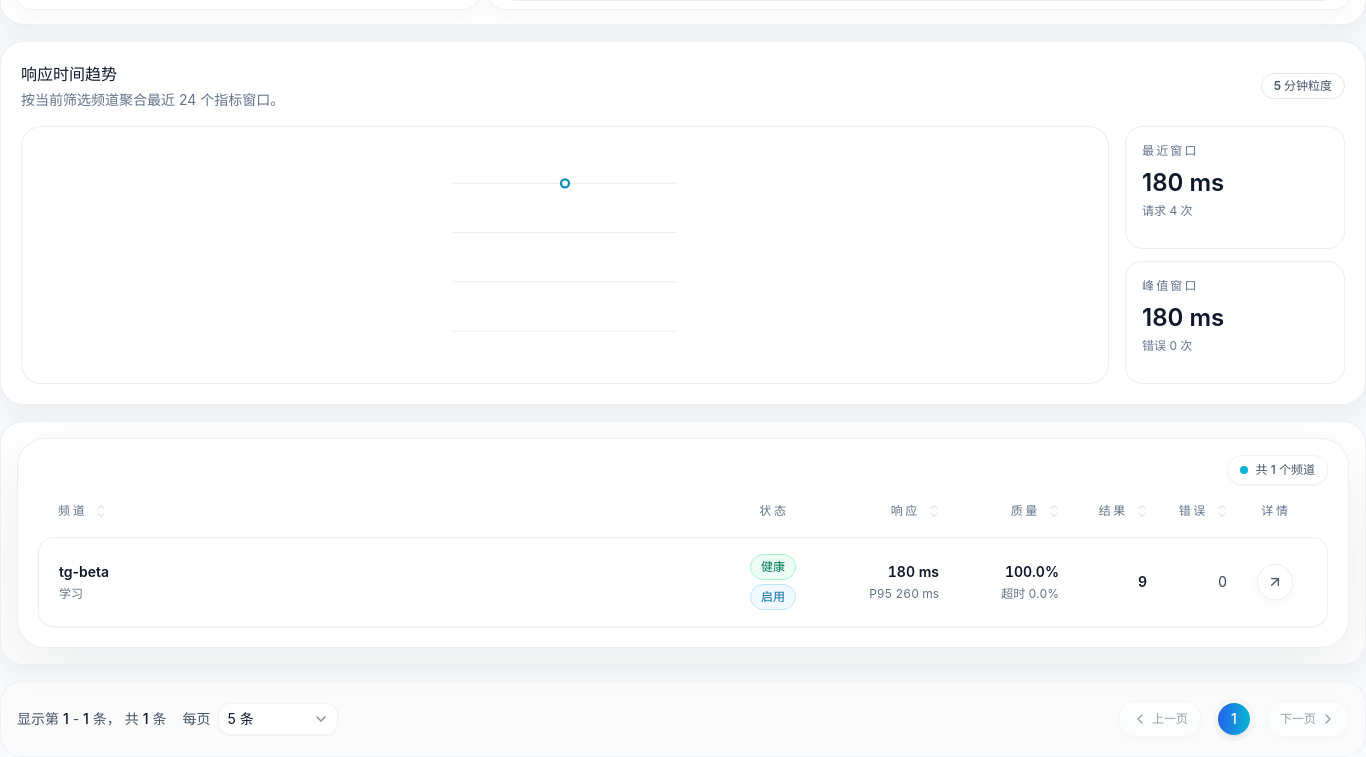
Test: ChannelPerformancePanel › 展示频道指标并可打开详情抽屉
(page scrolled)
Click the text "tg-beta" at (84, 572), box [59,563,109,580]
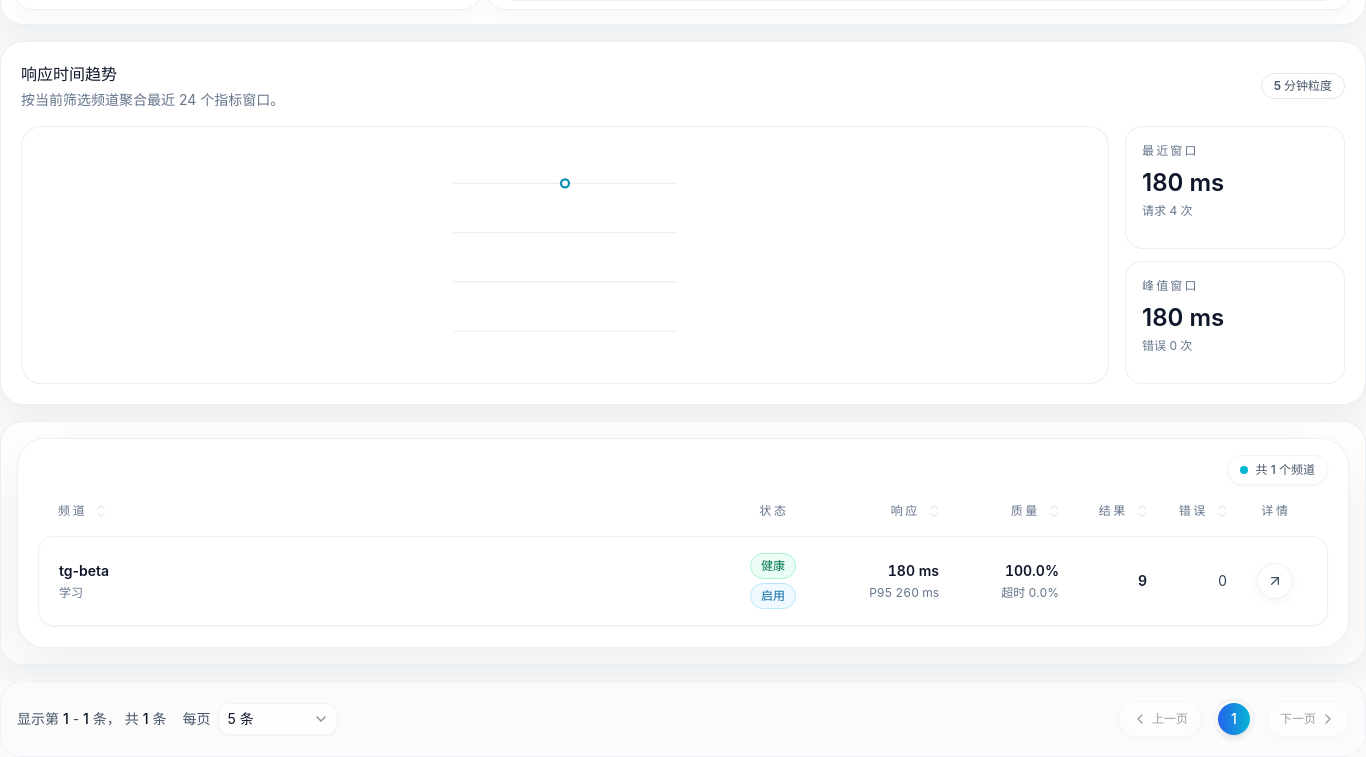
Click the button named "查看频道 tg-beta 详情" at (1275, 581), box [1257,563,1293,599]
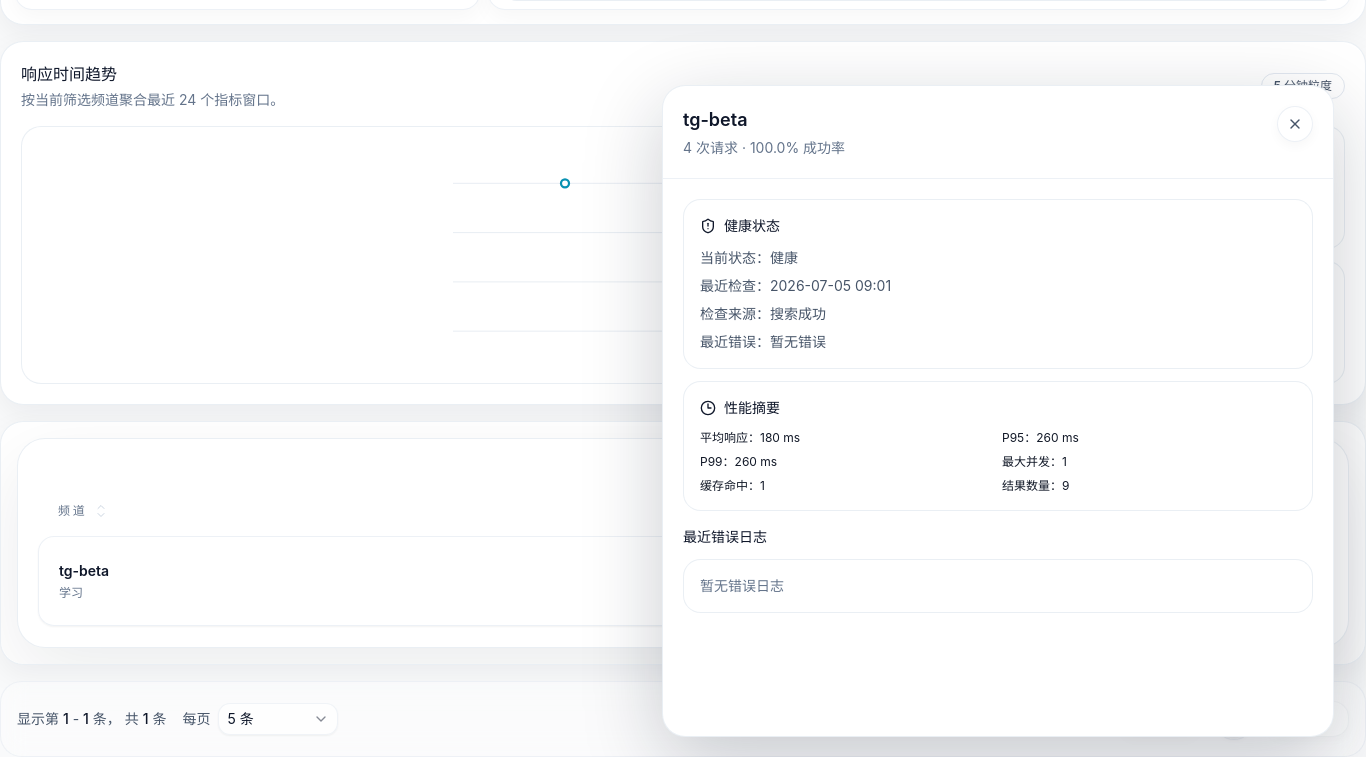
Expected: the text "性能摘要" is shown, [700,399,780,416]
Click the button named "关闭详情抽屉" at (1295, 124), box [1277,106,1313,142]
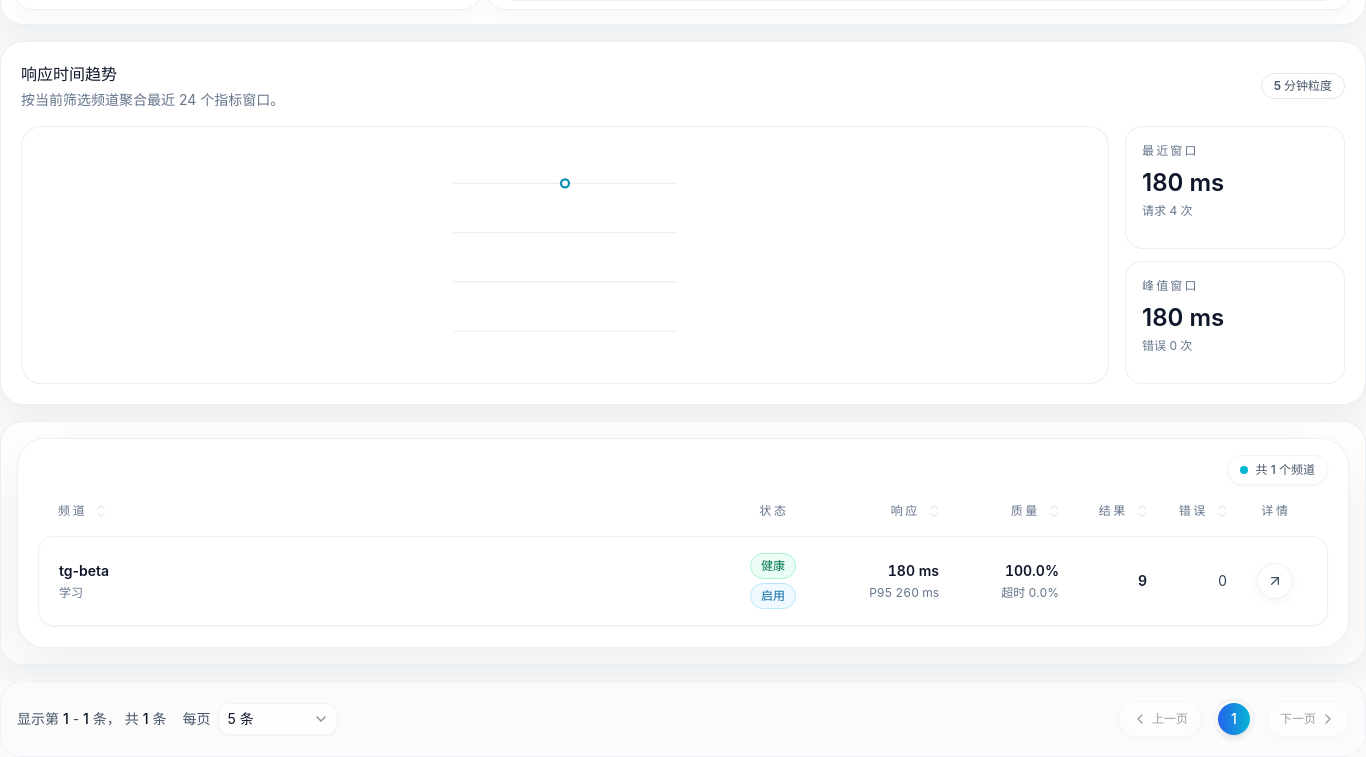
Expected: the dialog with test id "channel-performance-drawer" is gone
